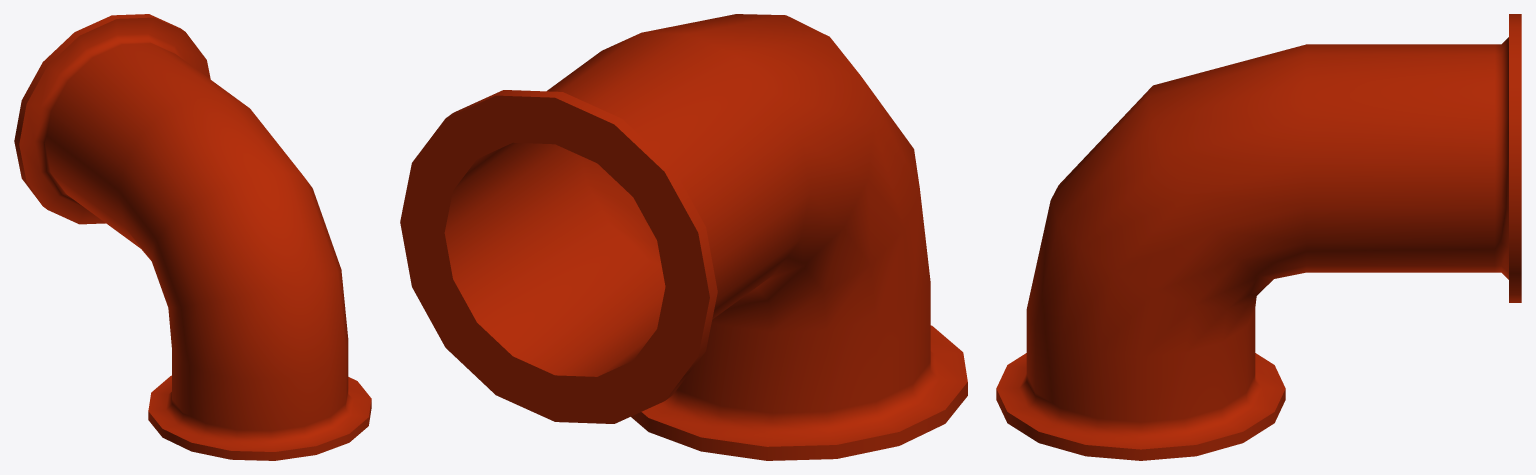
File: Pipe_16.FBX
3 views of the same model, side by side, from view 1: azimuth 30°, elevation 25°; view 2: azimuth 150°, elevation 25°; view 3: azimuth 270°, elevation 25° (orthographic). The views are drawn at different scales.
Parts seen in each view (by area): view 1: Pipe_up1_016_Low; view 2: Pipe_up1_016_Low; view 3: Pipe_up1_016_Low.
Part boxes in pixels (x1,y1,x2,y2): Pipe_up1_016_Low: [14, 14, 371, 460]; Pipe_up1_016_Low: [400, 14, 967, 460]; Pipe_up1_016_Low: [996, 14, 1521, 460].
Size of the model in its own units: 38 by 53.97 by 68.99.
